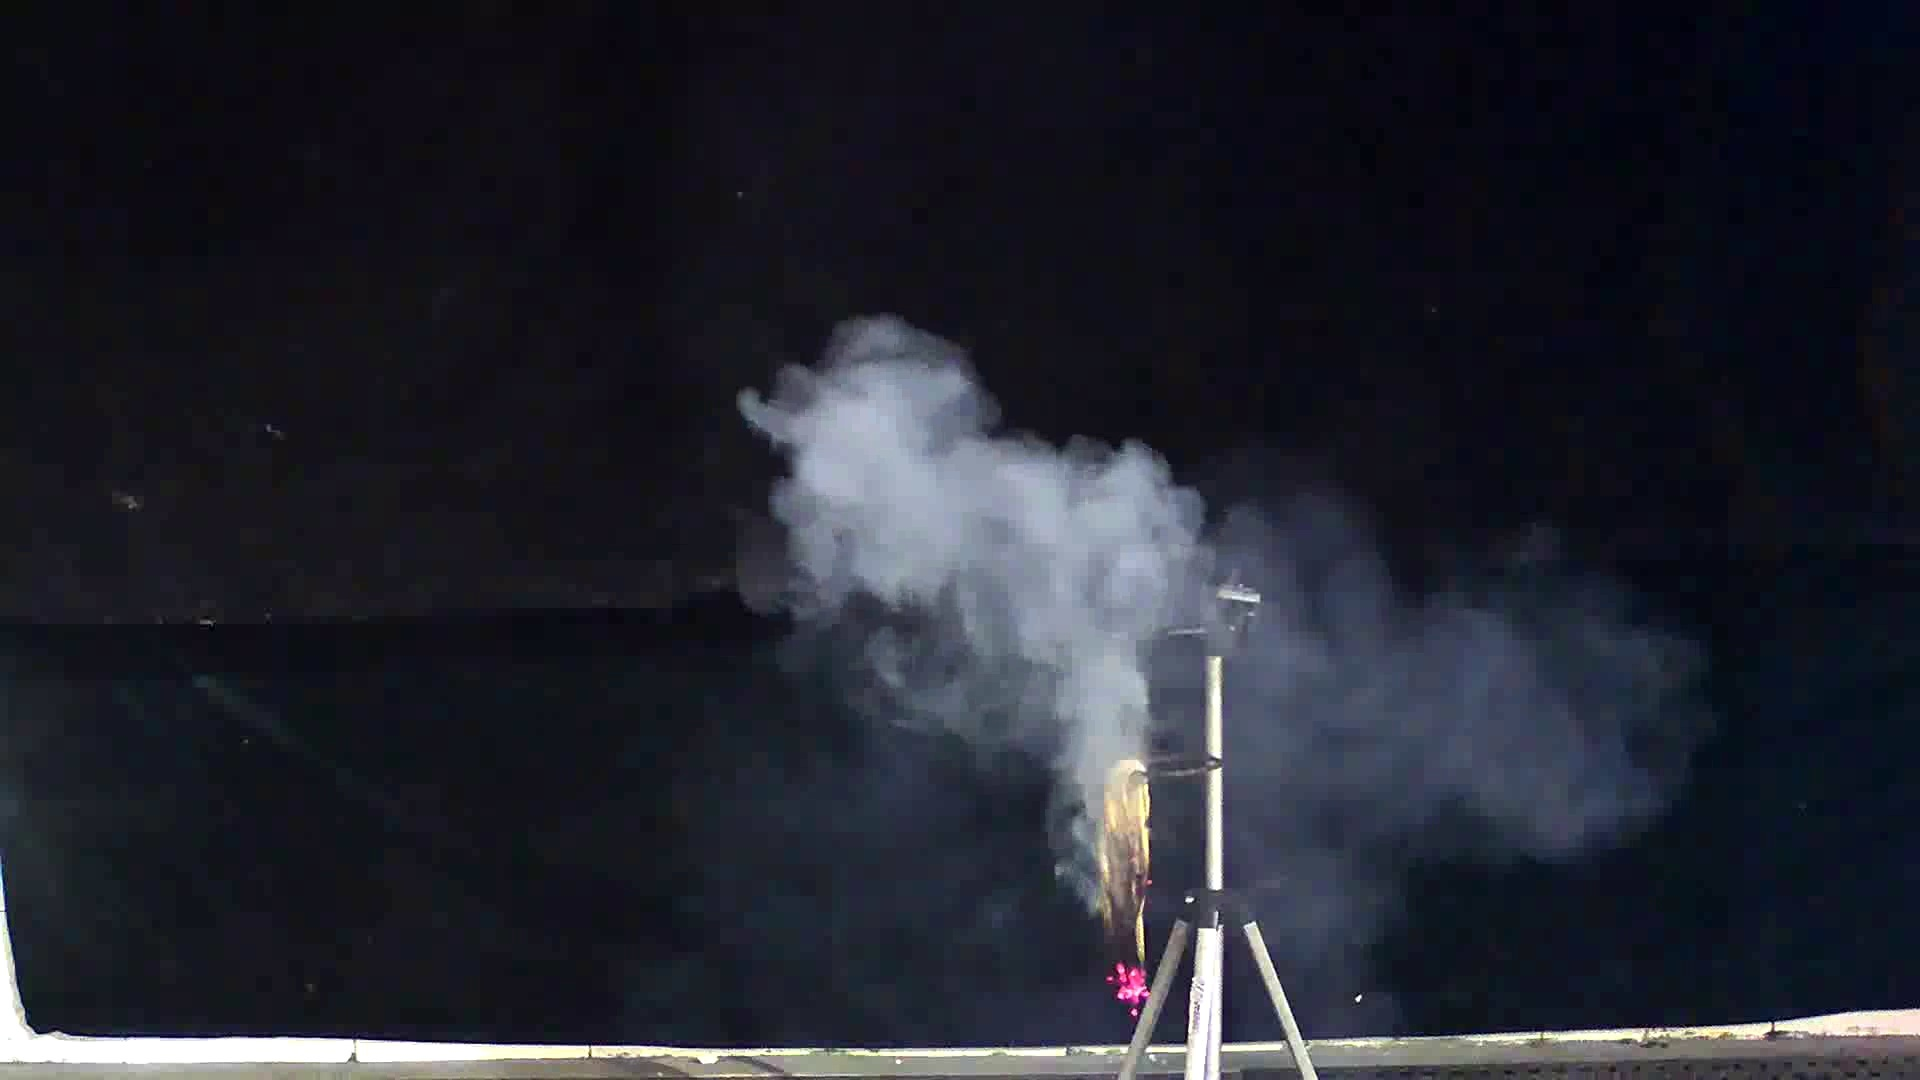smoke: (733, 307, 1677, 938)
